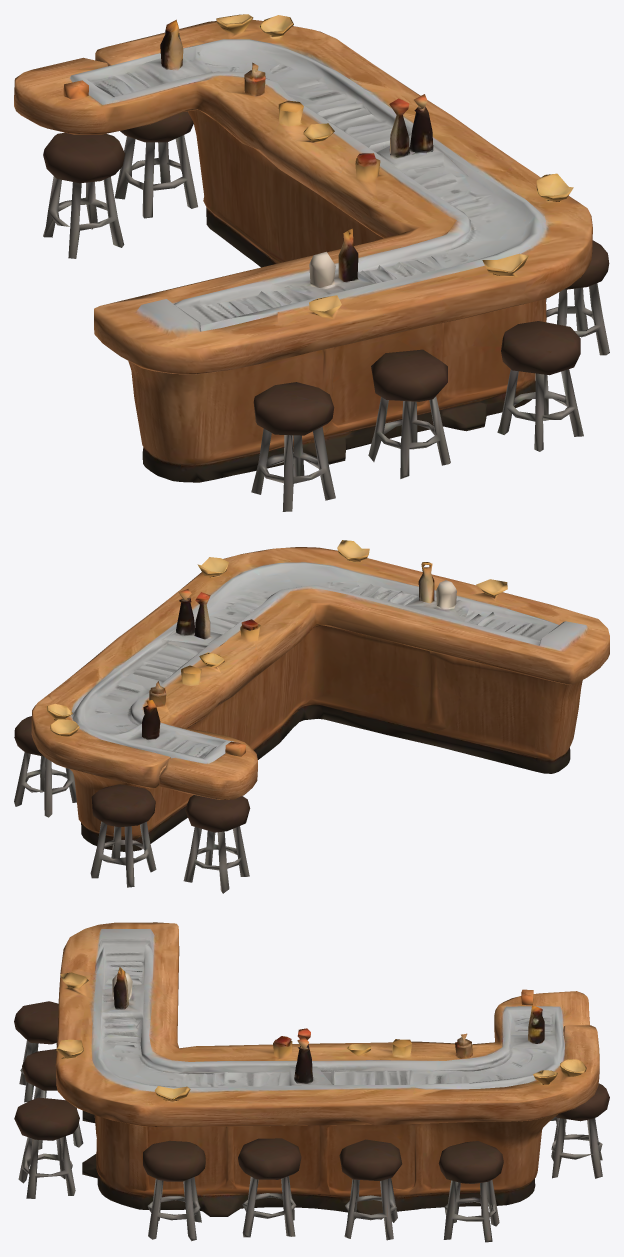
Rendered from sushi_conveyor.glb.
3 renders of one model, top to bottom at view 1: azimuth 30°, elevation 25°; view 2: azimuth 150°, elevation 25°; view 3: azimuth 270°, elevation 25°, orthographic. The views are drawn at different scales.
Visible parts, largest first — view 1: tripo_node_9fafc9a3-dccb-4fc1-a924-5b517af67220; view 2: tripo_node_9fafc9a3-dccb-4fc1-a924-5b517af67220; view 3: tripo_node_9fafc9a3-dccb-4fc1-a924-5b517af67220.
Part boxes in pixels (<box>): tripo_node_9fafc9a3-dccb-4fc1-a924-5b517af67220: <box>14,14,609,511</box>; tripo_node_9fafc9a3-dccb-4fc1-a924-5b517af67220: <box>14,540,609,893</box>; tripo_node_9fafc9a3-dccb-4fc1-a924-5b517af67220: <box>14,922,609,1242</box>.
Bounding box in the file's own units: 3.34 × 1.29 × 4.2.
Materials: 1 (1 with a texture image).
